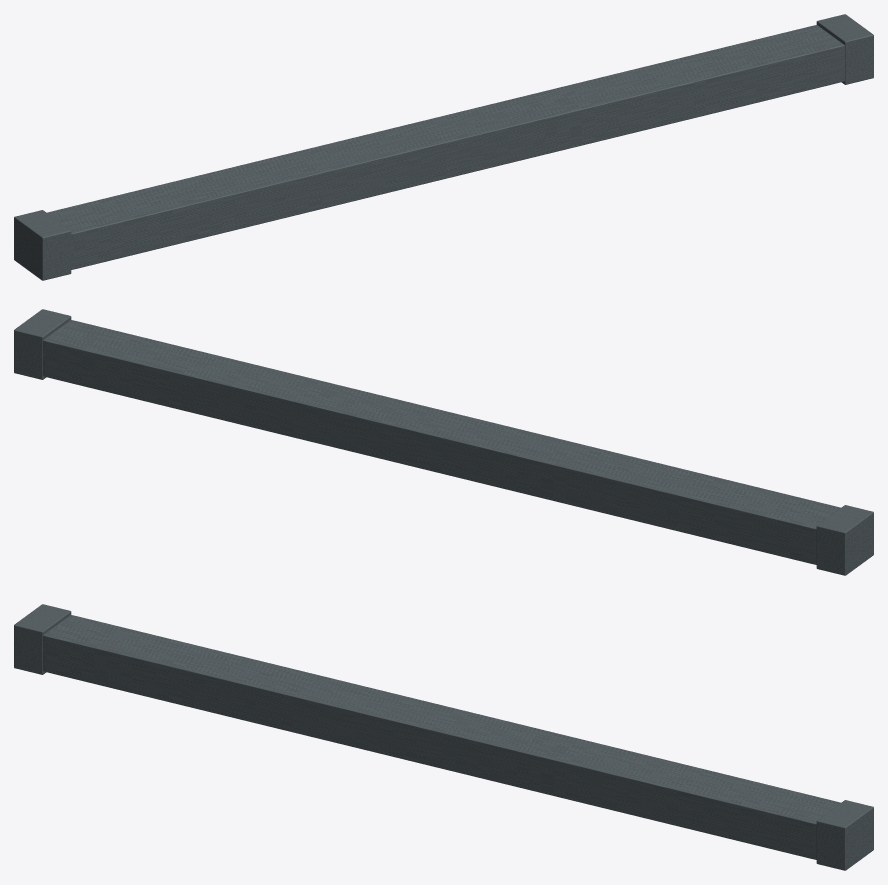
File: exhaust-track.glb
3 views of the same model, one above another, from view 1: azimuth 30°, elevation 25°; view 2: azimuth 150°, elevation 25°; view 3: azimuth 330°, elevation 25° (orthographic).
Parts seen in each view (by area): view 1: duct, flange (×2); view 2: duct, flange (×2); view 3: duct, flange (×2).
Part boxes in pixels (x1,y1,x2,y2): duct: [47, 25, 844, 269]; flange (×2): [14, 14, 873, 280]; duct: [43, 320, 840, 564]; flange (×2): [14, 309, 873, 575]; duct: [43, 615, 840, 859]; flange (×2): [14, 604, 873, 870].
Bounding box in the file's own units: 1.99 × 0.1 × 0.12.
1 material, 1 textured.
